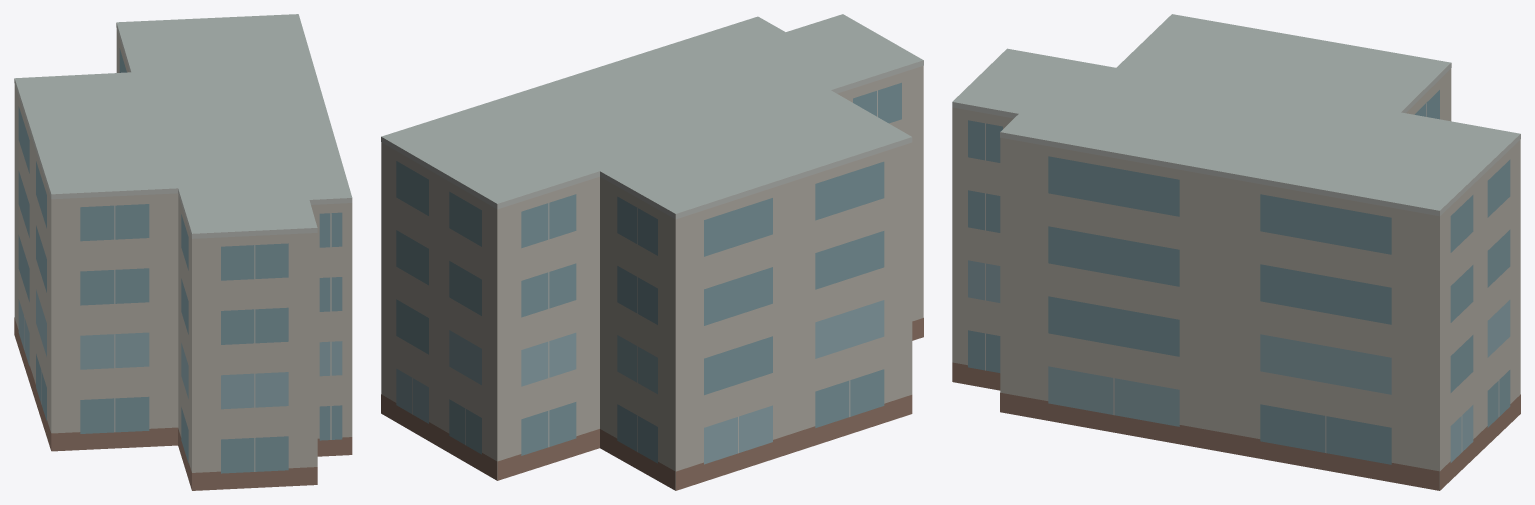
Rendered from survey-upis-32537737.glb.
3 renders of one model, left to right at view 1: azimuth 30°, elevation 25°; view 2: azimuth 150°, elevation 25°; view 3: azimuth 270°, elevation 25°, orthographic. The views are drawn at different scales.
Visible parts, largest first — view 1: survey-upis-32537737.tmp; view 2: survey-upis-32537737.tmp; view 3: survey-upis-32537737.tmp.
Boxes of the visible parts, box(x1,y1,x2,y2) form: survey-upis-32537737.tmp: box(14, 14, 352, 490); survey-upis-32537737.tmp: box(381, 14, 923, 490); survey-upis-32537737.tmp: box(952, 14, 1520, 490).
Size of the model in its own units: 18.77 by 12.45 by 22.92.
